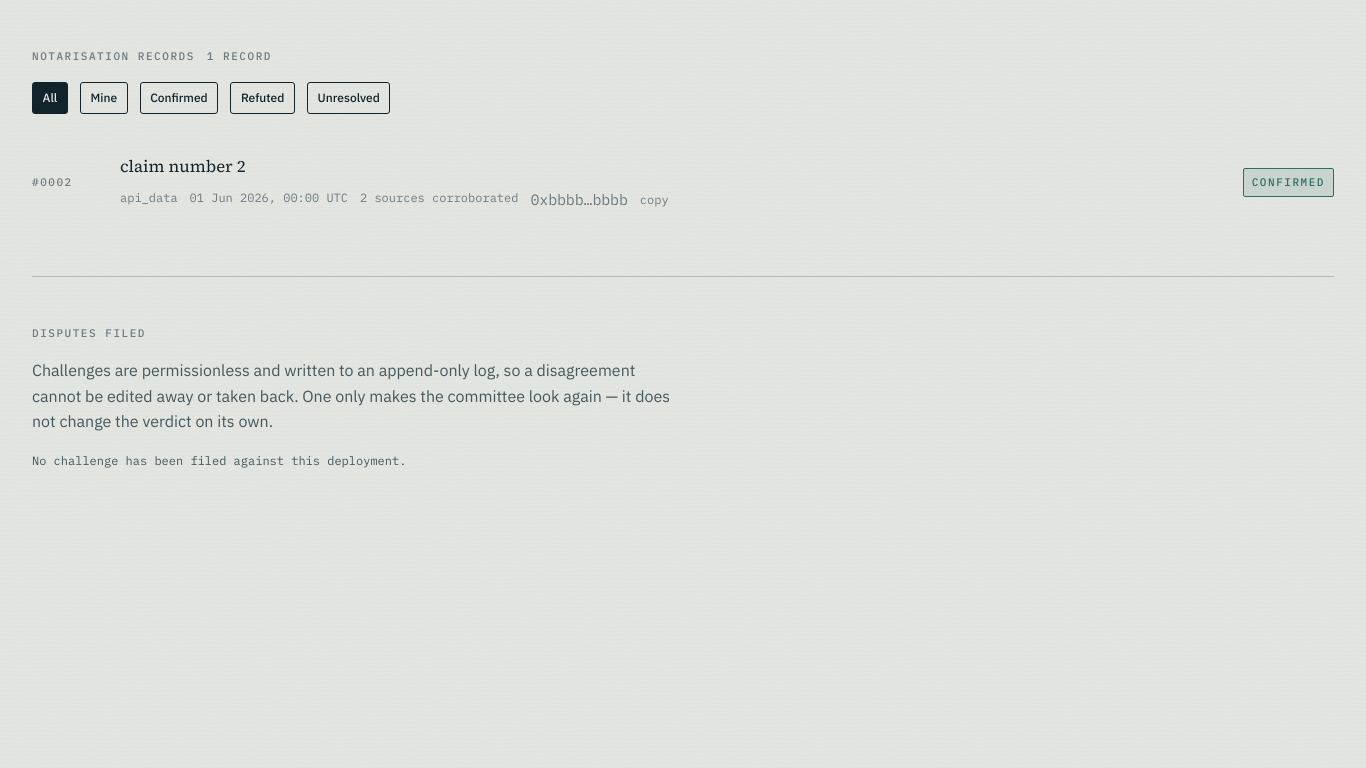
Test case: Records: Mine filter › explains an empty result rather than just showing nothing
The width and height of the screenshot is (1366, 768).
Step 1. Click the button "Mine" → (104, 98), box left=80, top=82, right=128, bottom=114
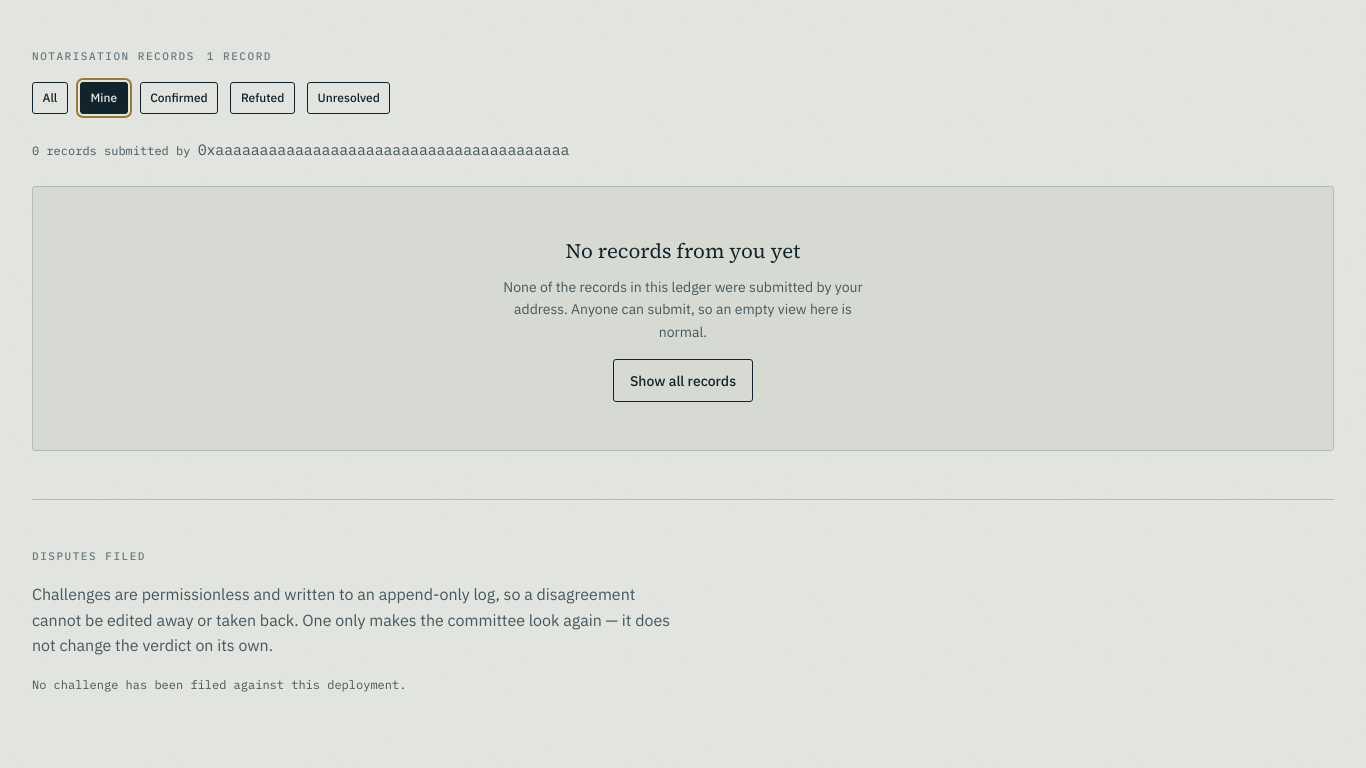
Now the text "No records from you yet" is shown, box left=566, top=237, right=800, bottom=265
